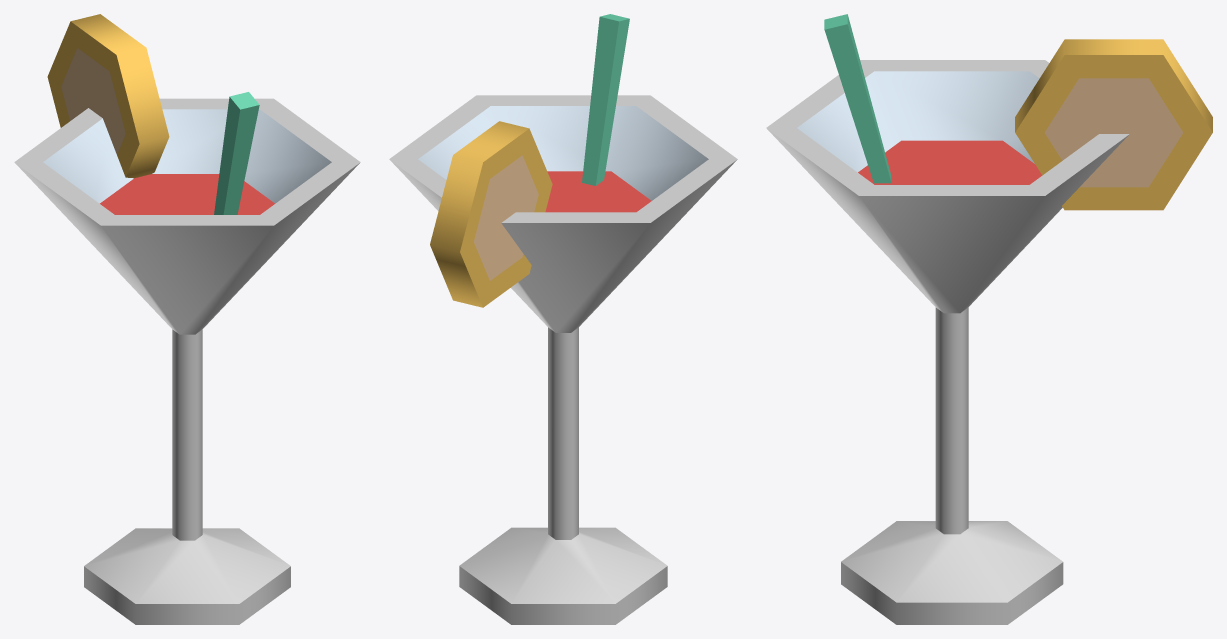
Rendered from Cocktail.glb.
The picture shows the model from 3 angles, left to right: view 1: azimuth 30°, elevation 25°; view 2: azimuth 150°, elevation 25°; view 3: azimuth 270°, elevation 25°; orthographic projection. The views are drawn at different scales.
Visible parts, largest first — view 1: cocktail, lemon, straw; view 2: cocktail, lemon, straw; view 3: cocktail, lemon, straw.
Part boxes in pixels (x1,y1,x2,y2): cocktail: (14, 98, 360, 624); lemon: (47, 14, 169, 178); straw: (214, 92, 259, 214); cocktail: (389, 95, 737, 624); lemon: (430, 121, 552, 307); straw: (582, 14, 629, 185); cocktail: (766, 60, 1129, 624); lemon: (1015, 39, 1212, 210); straw: (824, 14, 891, 183).
Size of the model in its own units: 0.2607 by 0.5059 by 0.3615.
